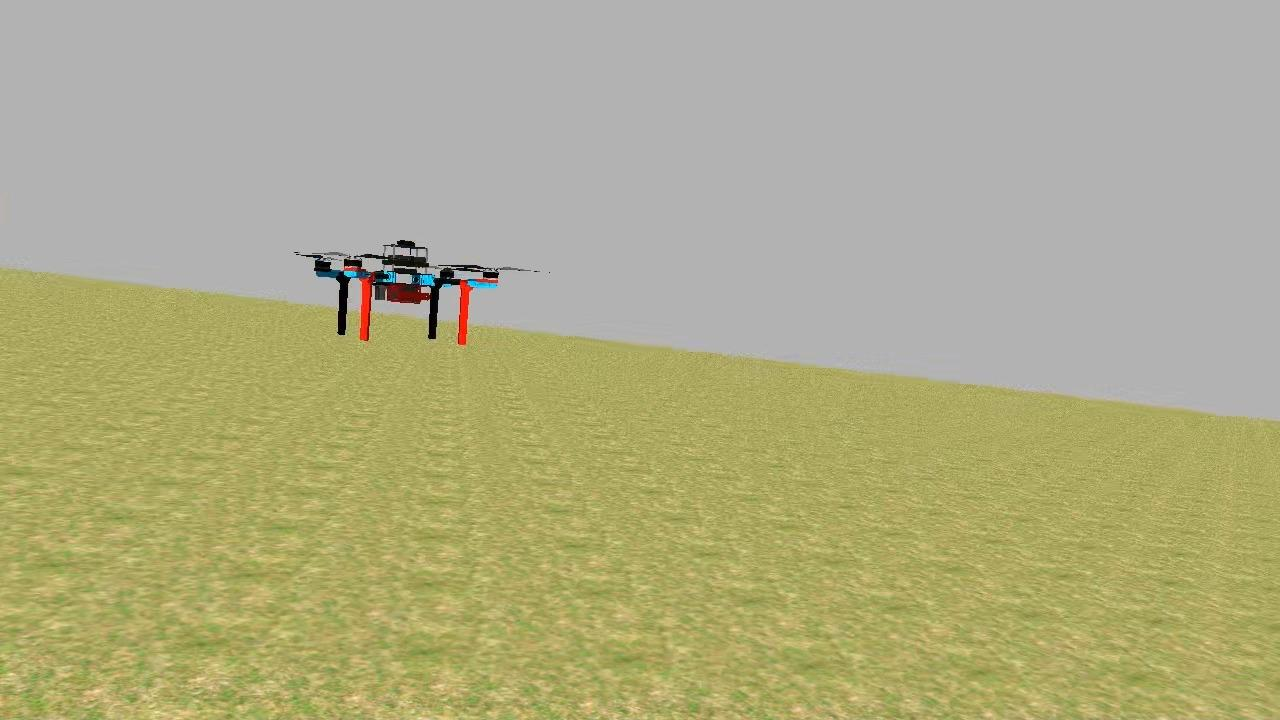UAV: (310, 236, 510, 354)
